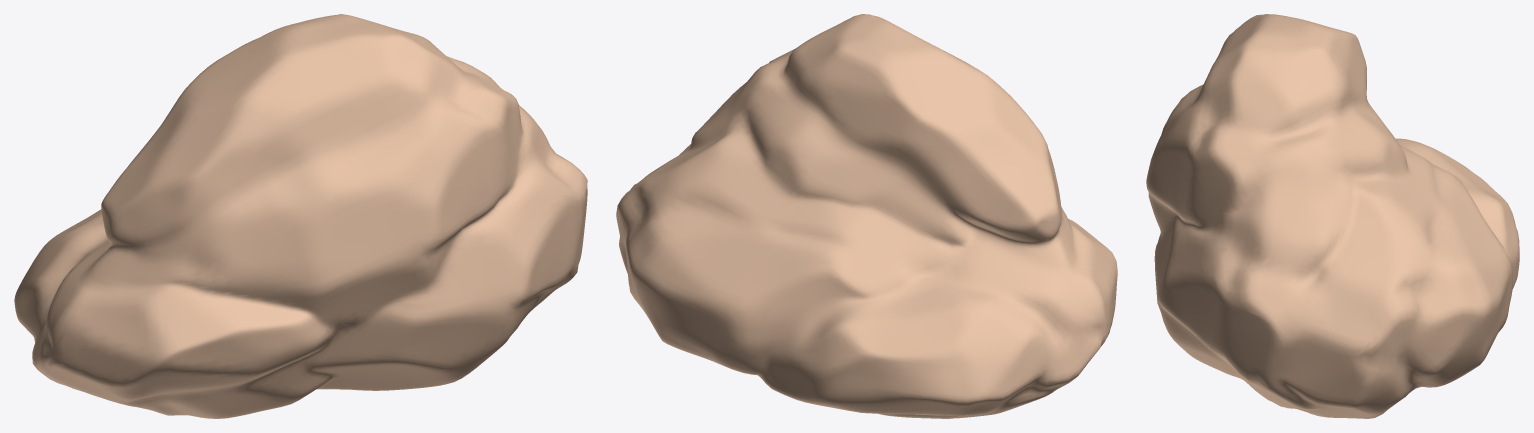
The model's file is taş_2.fbx.
3 renders of one model, left to right at view 1: azimuth 30°, elevation 25°; view 2: azimuth 150°, elevation 25°; view 3: azimuth 270°, elevation 25°, orthographic. The views are drawn at different scales.
Parts seen in each view (by area): view 1: Rock2; view 2: Rock2; view 3: Rock2.
Part boxes in pixels (<box>): Rock2: <box>14,14,587,418</box>; Rock2: <box>616,14,1117,418</box>; Rock2: <box>1146,14,1519,418</box>.
Bounding box in the file's own units: 66.11 × 44.74 × 45.62.
